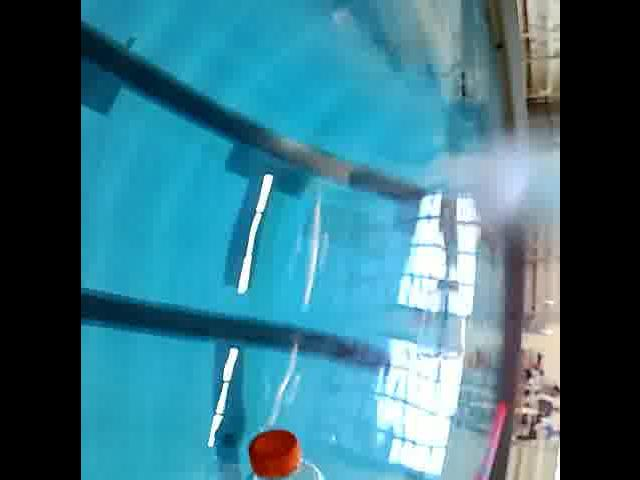Bottle: (232, 418, 346, 480)
